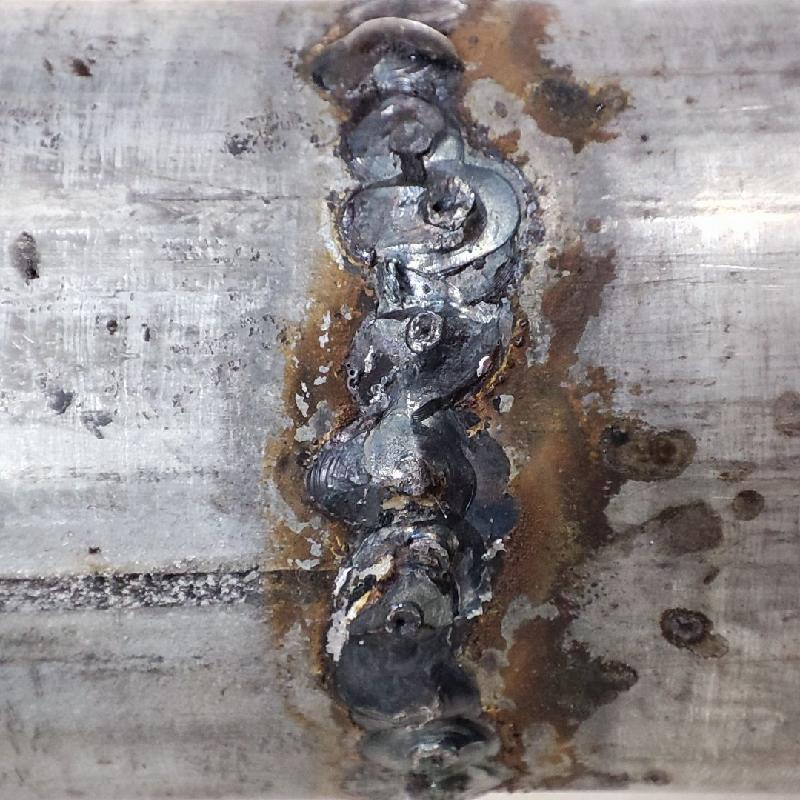Surface_pores: (408, 177, 474, 227), (400, 306, 452, 351), (376, 602, 427, 641)
Weld: (320, 14, 468, 99)
